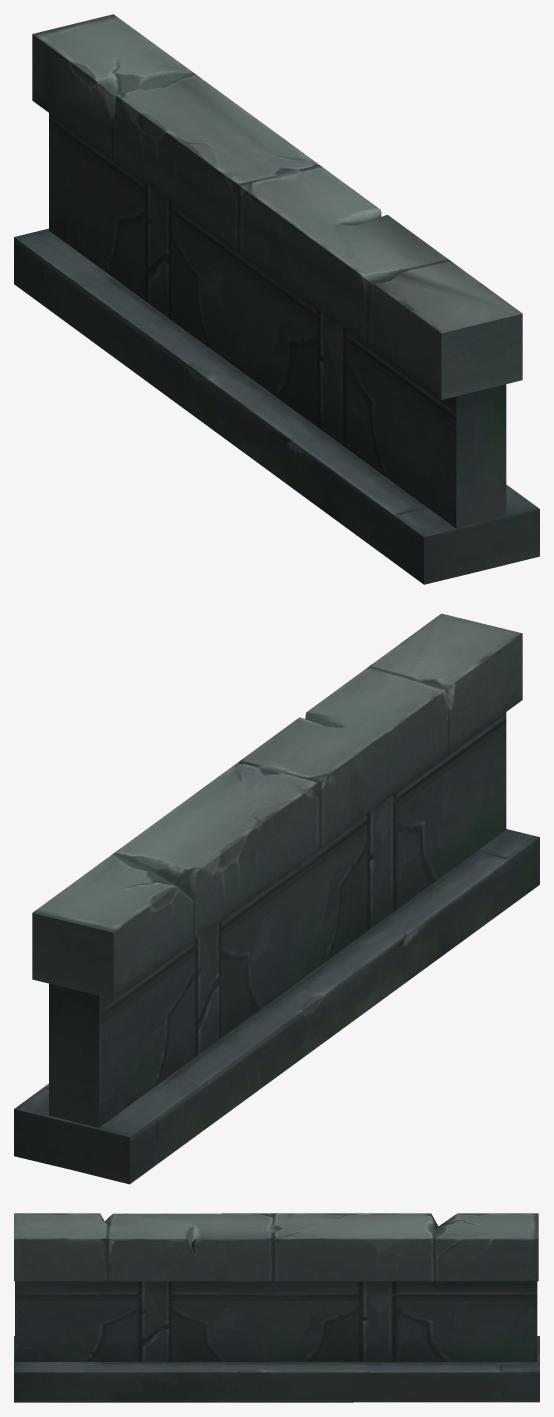
File: Moba_qiang04.FBX
The picture shows the model from 3 angles, top to bottom: view 1: azimuth 30°, elevation 25°; view 2: azimuth 150°, elevation 25°; view 3: azimuth 270°, elevation 25°; orthographic projection. The views are drawn at different scales.
Parts seen in each view (by area): view 1: Moba_qiang04; view 2: Moba_qiang04; view 3: Moba_qiang04.
Boxes of the visible parts, left/top/right/bottom form: Moba_qiang04: left=14, top=14, right=539, bottom=584; Moba_qiang04: left=14, top=613, right=539, bottom=1184; Moba_qiang04: left=14, top=1213, right=539, bottom=1402.
Bounding box in the file's own units: 1.63 × 9.98 × 3.32.
